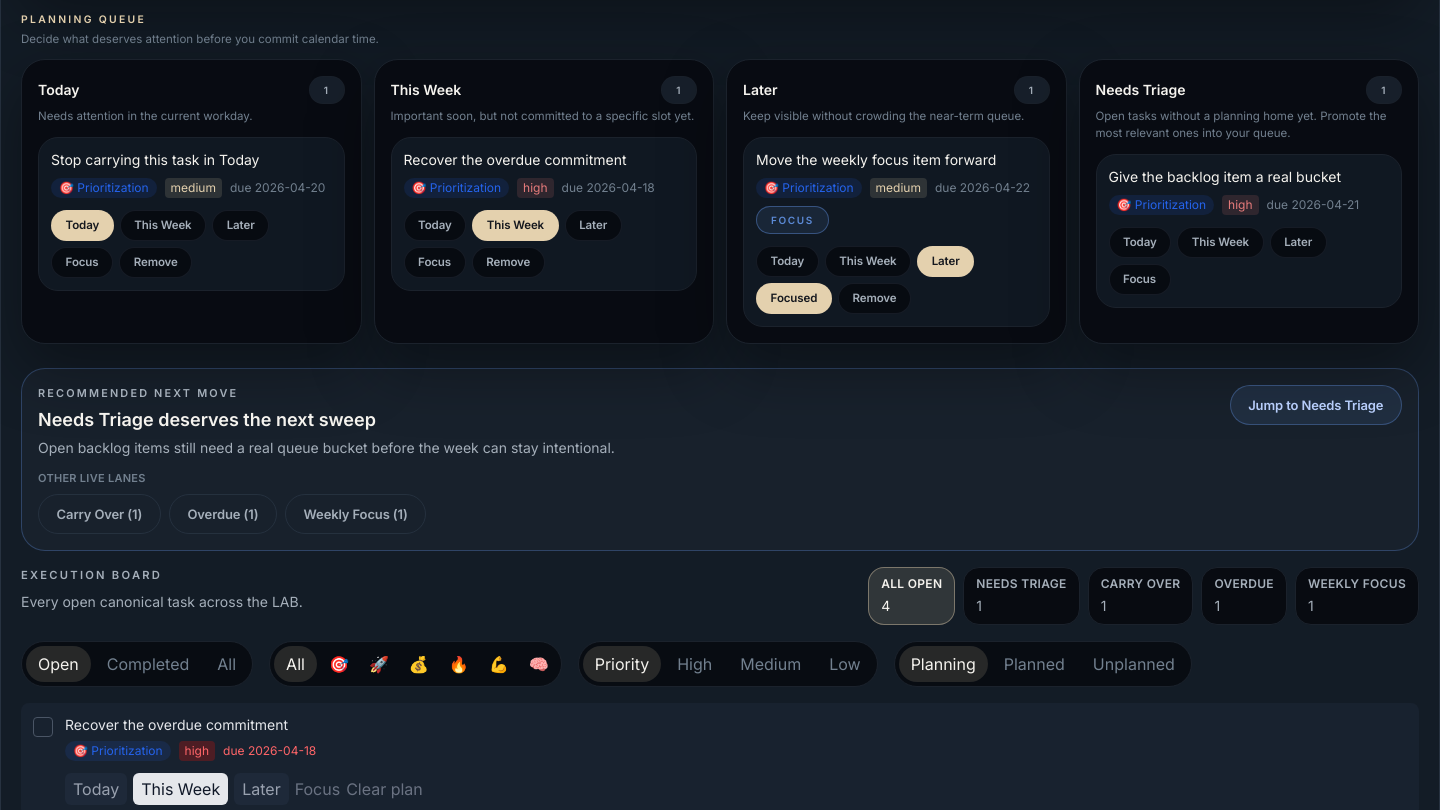
Test: TaskDashboard › recommends the highest-signal next move and jumps the raw task list into preset views
This screenshot has width=1440, height=810.
(page scrolled)
Expected: the text "Recommended Next Move" is shown, [38,386,238,400]
Expected: the heading "Needs Triage deserves the next sweep" is shown, [38,409,376,430]
What coordinates should you click on to do the following:
click the button "Jump to Needs Triage"
I would click on:
 (1316, 406)
Its box is [1230,386,1402,426].
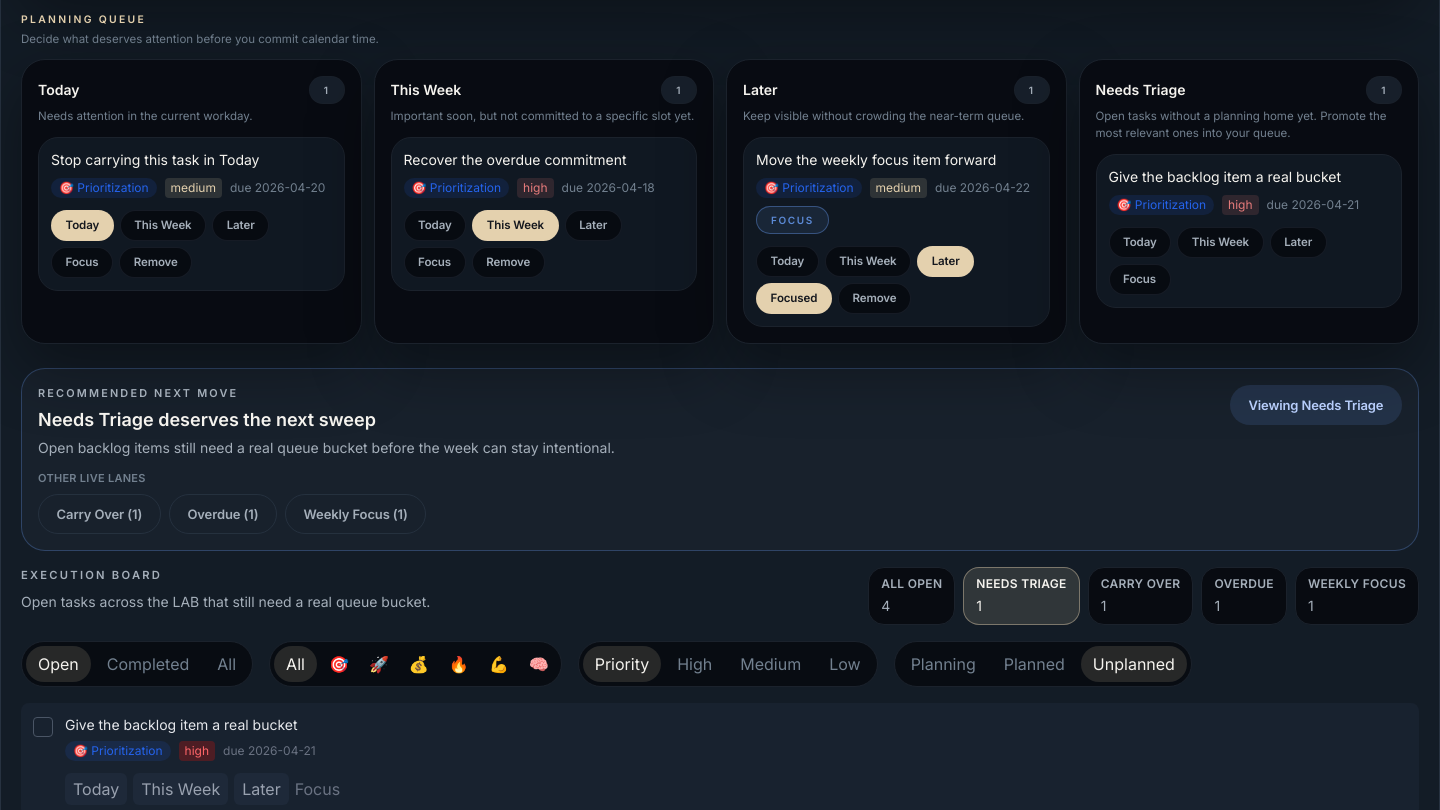
Expected: the text "Give the backlog item a real bucket" below "Execution Board" is shown, [65,716,298,733]
Result: the button "Viewing Needs Triage" is shown at [1230,386,1402,426]
What coordinates should you click on to do the following:
click the button "Carry Over 1"
I would click on:
 (1140, 596)
Its box is [1088,567,1193,625].
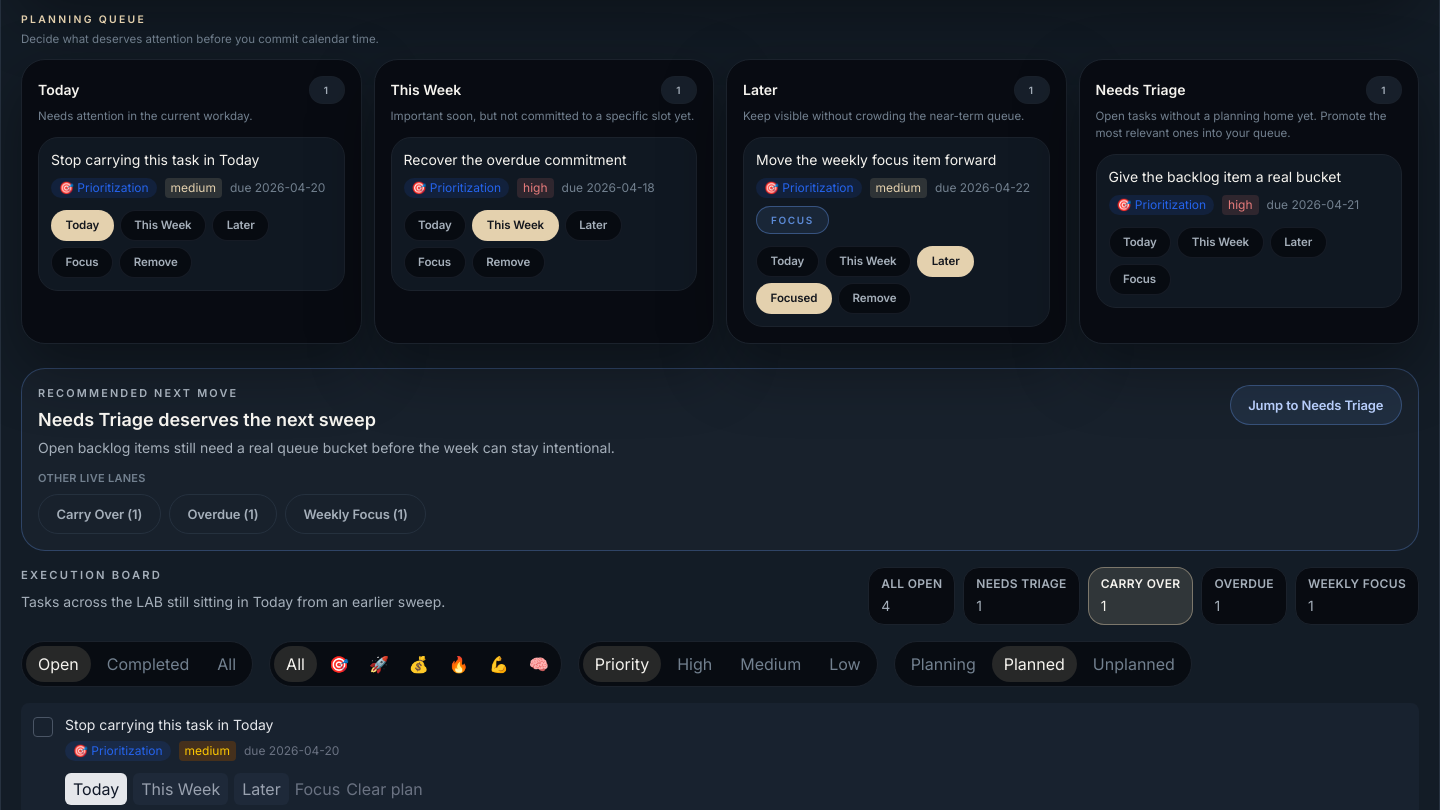
Result: the text "Stop carrying this task in Today" below "Execution Board" is shown at [65,716,274,733]
What coordinates should you click on to do the following:
click the button "Weekly Focus 1"
I would click on:
 (1357, 596)
Its box is [1295,567,1419,625].
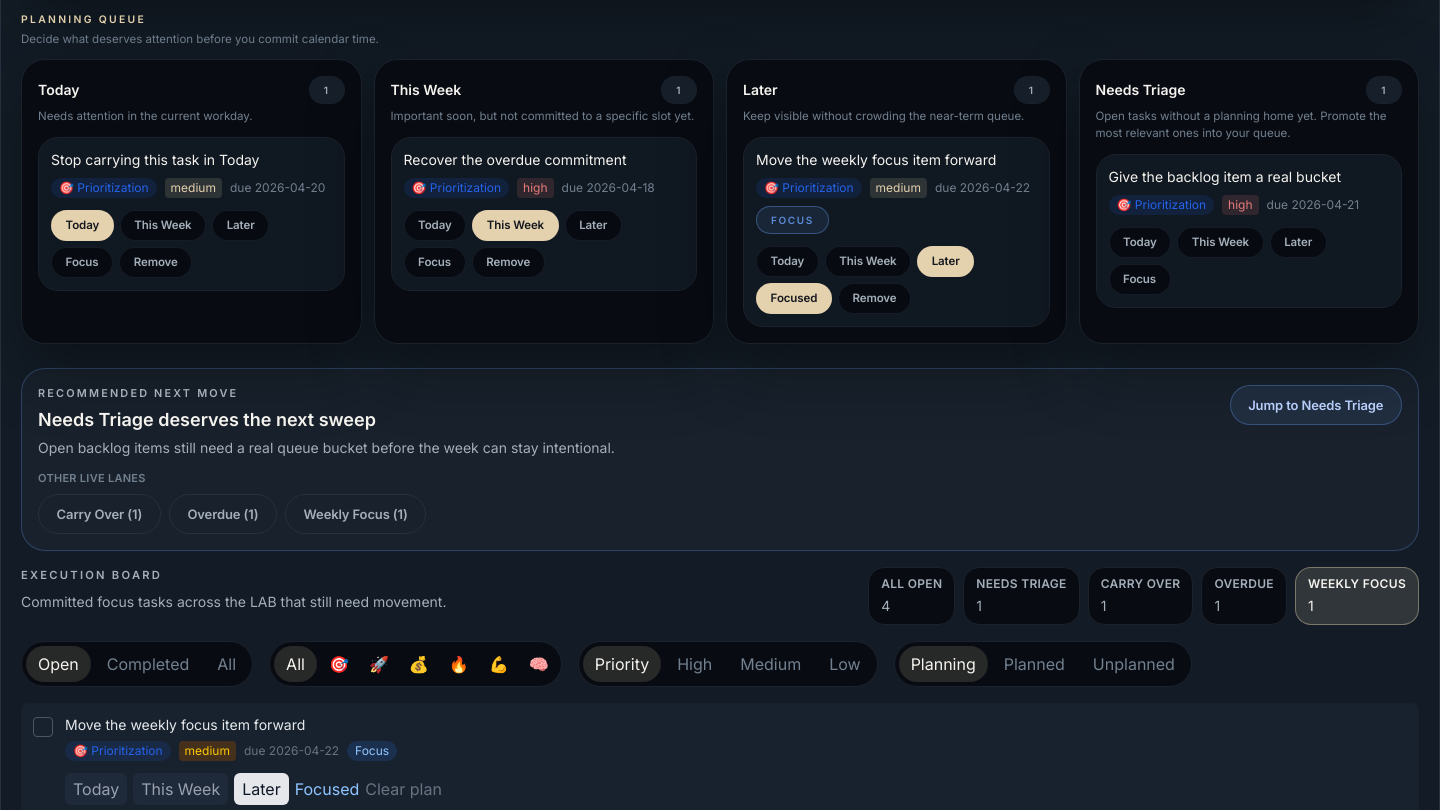
Result: the text "Move the weekly focus item forward" below "Execution Board" is shown at [65,716,305,733]
